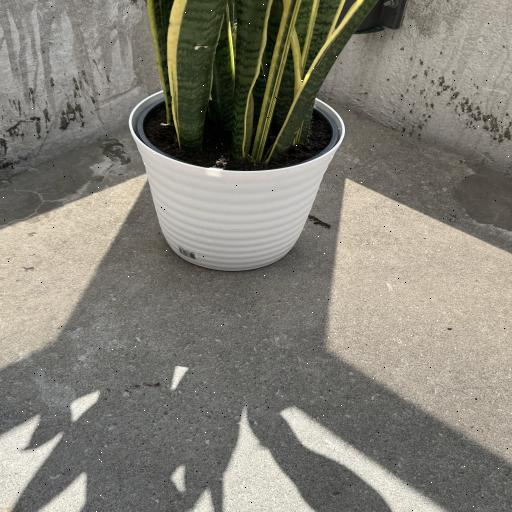Plant Pot: (129, 88, 345, 274)
